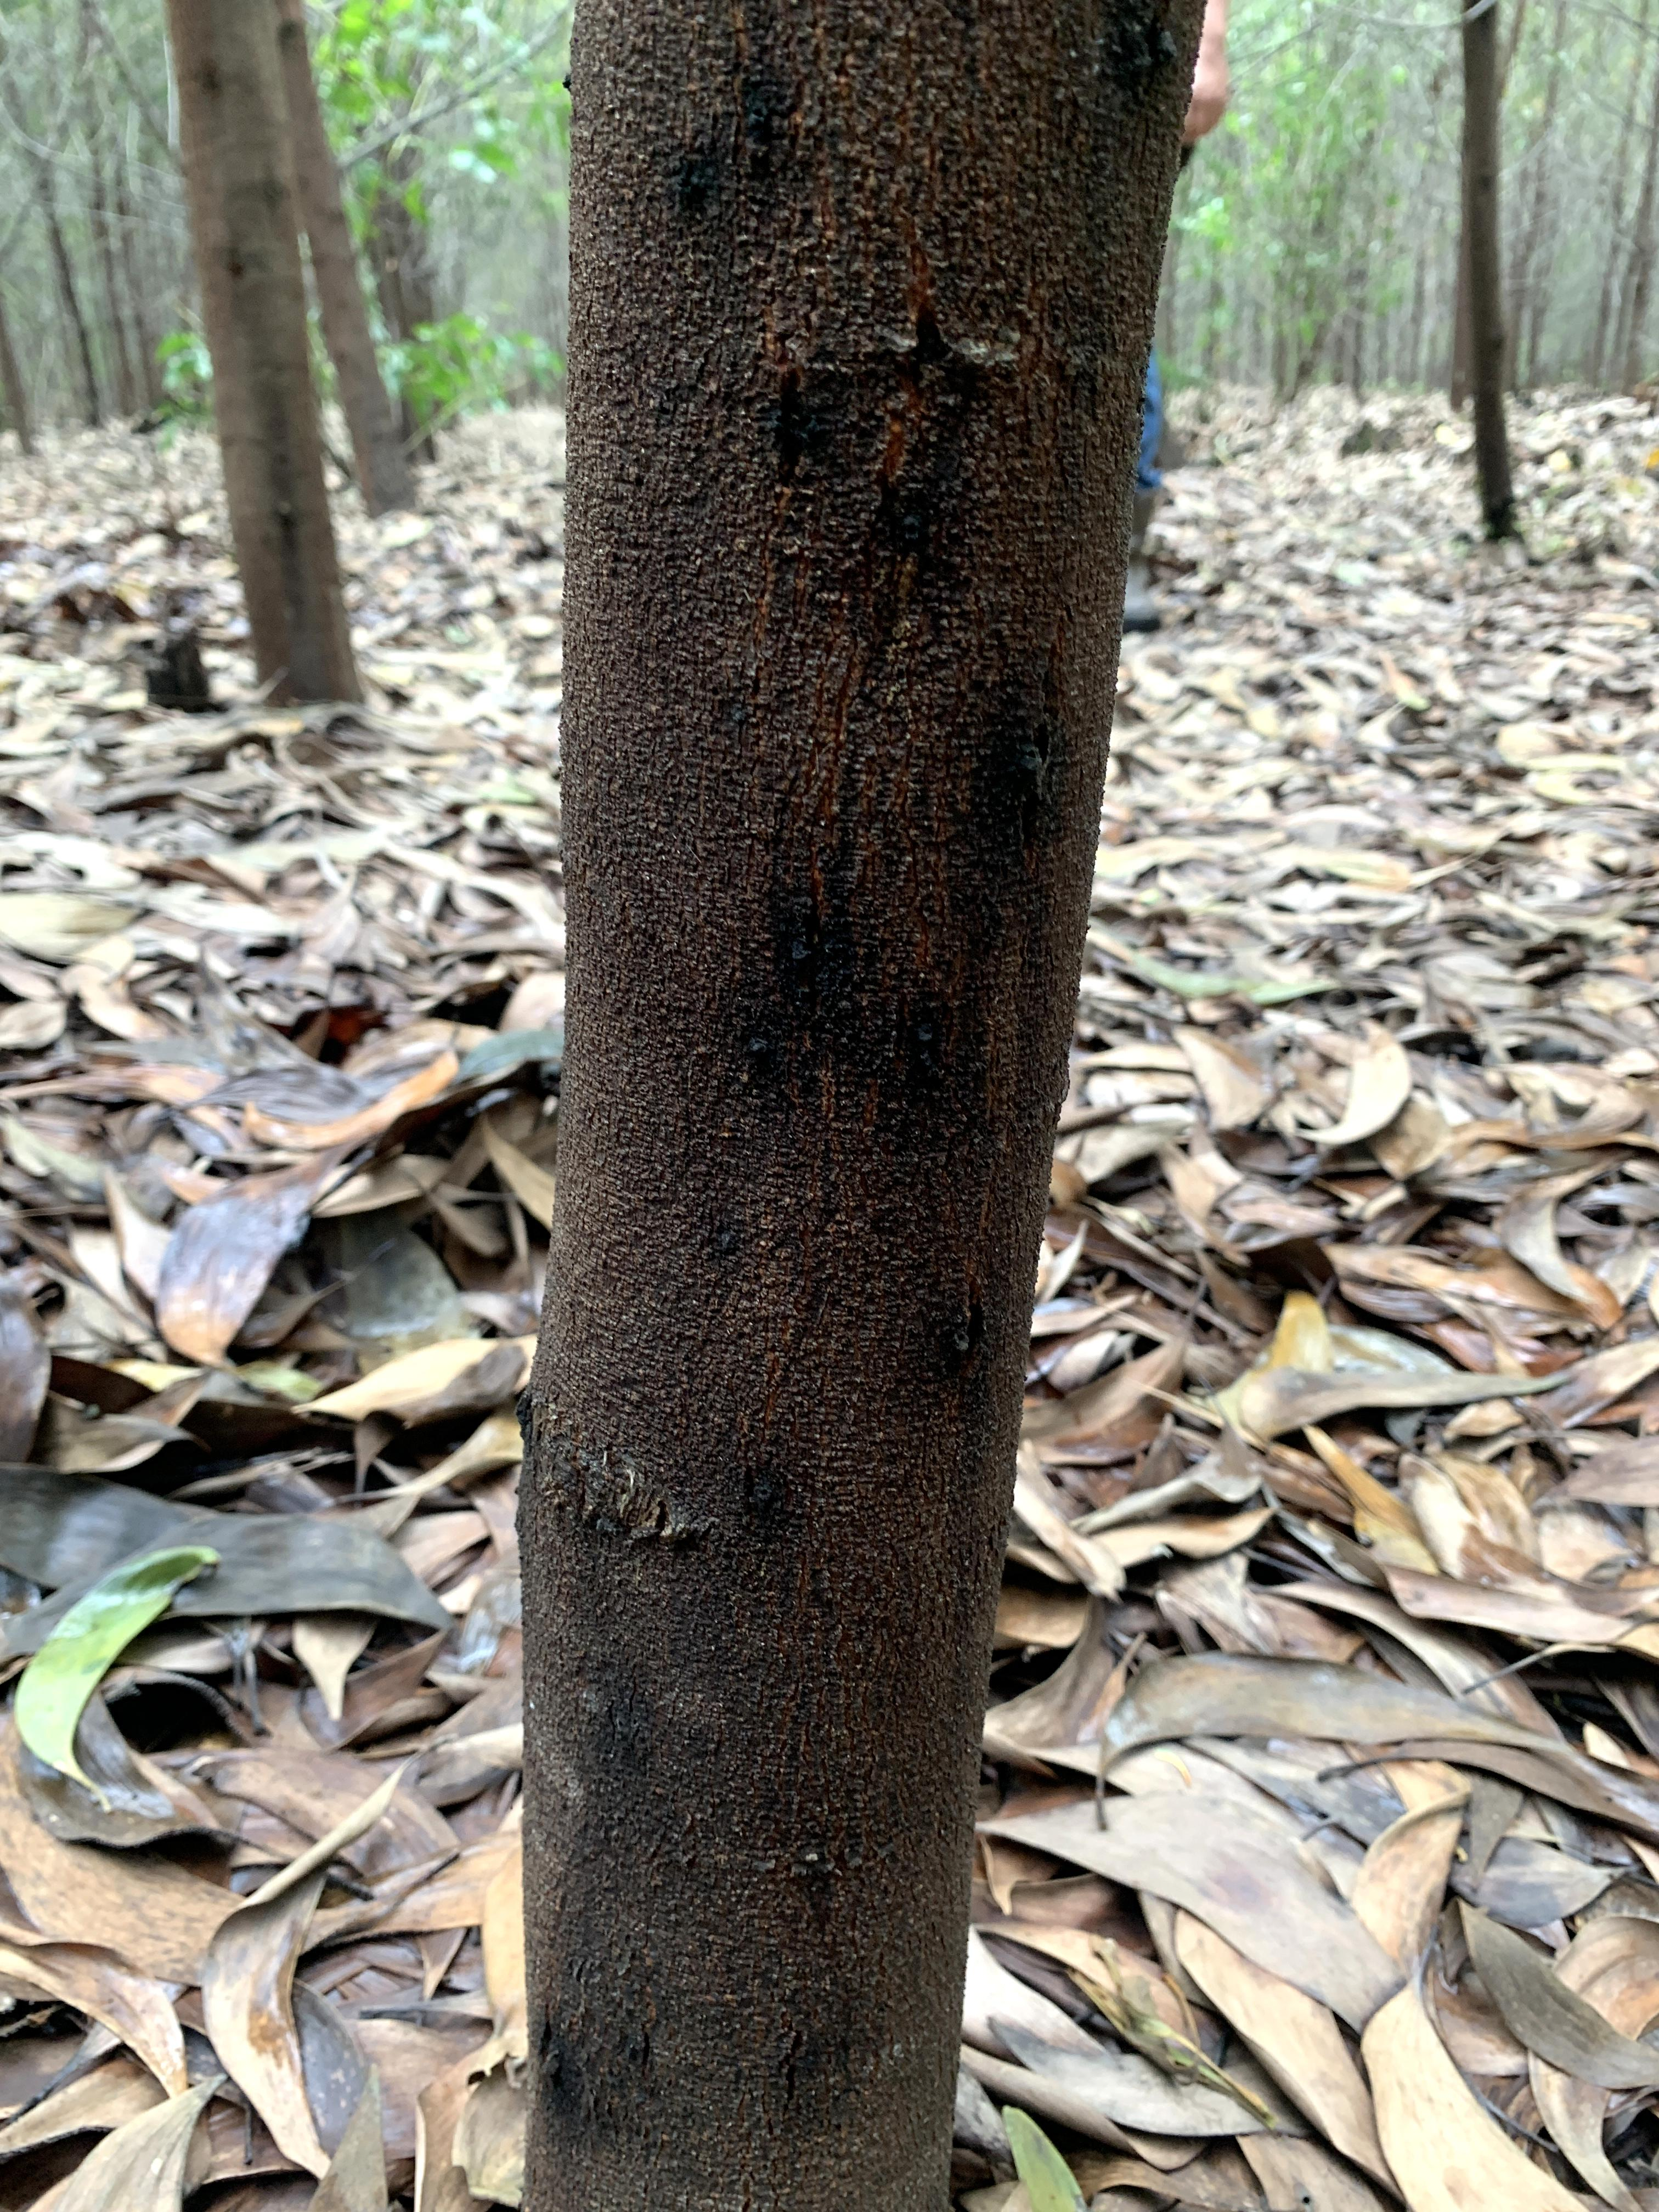Stem Borer: (735, 291, 992, 576), (714, 831, 899, 1075), (615, 109, 844, 260), (579, 1676, 691, 1835), (749, 1995, 821, 2155), (725, 1433, 809, 1566), (519, 2023, 600, 2152)
